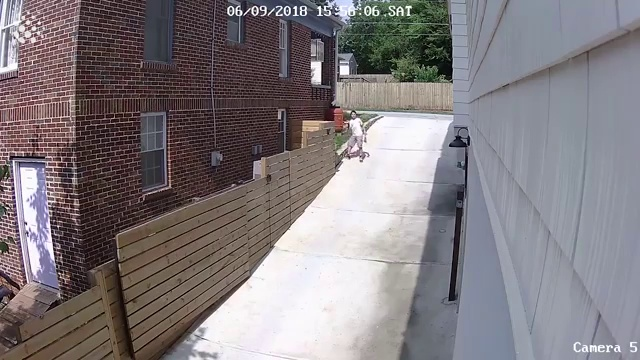face: (350, 112, 357, 119)
